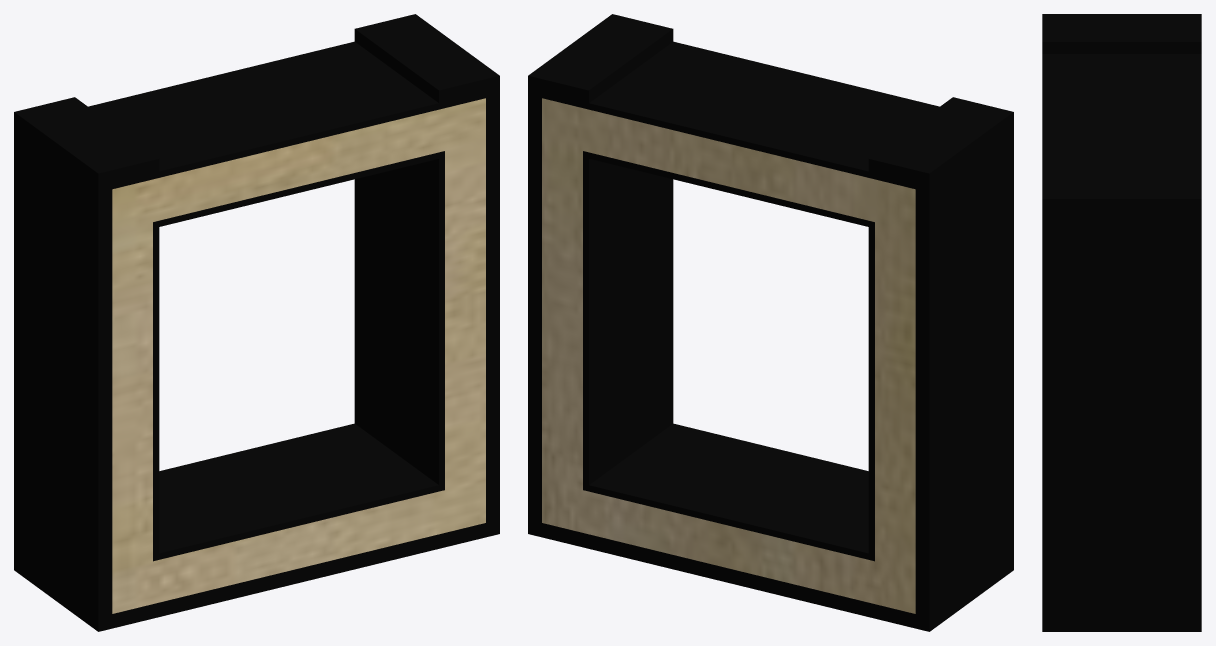
3 renders of one model, left to right at view 1: azimuth 30°, elevation 25°; view 2: azimuth 150°, elevation 25°; view 3: azimuth 270°, elevation 25°, orthographic. The views are drawn at different scales.
Visible parts, largest first — view 1: E-2; view 2: E-2; view 3: E-2.
Boxes of the visible parts, left/top/right/bottom form: E-2: left=14, top=14, right=499, bottom=631; E-2: left=528, top=14, right=1013, bottom=631; E-2: left=1042, top=14, right=1201, bottom=631.
Size of the model in its own units: 3.3 by 3.6 by 1.2.
2 materials, 1 textured.
